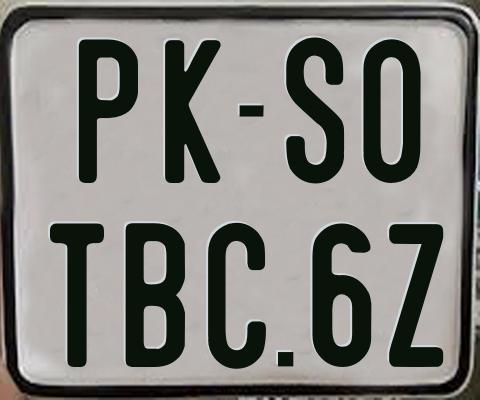0: (360, 38, 422, 182)
6: (311, 221, 375, 368)
B: (124, 222, 185, 371)
C: (208, 220, 266, 371)
K: (165, 40, 221, 184)
P: (79, 38, 142, 188)
S: (285, 34, 349, 184)
T: (50, 221, 107, 366)
Z: (387, 222, 445, 371)
